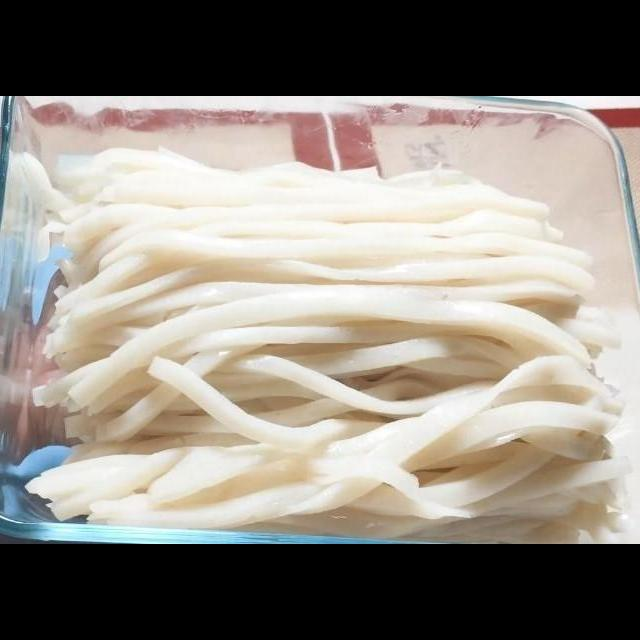mi: (14, 140, 640, 544)
